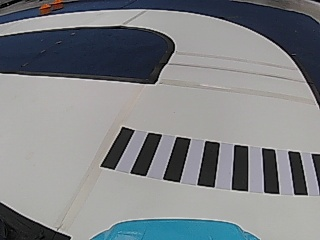CrossWalk: (99, 126, 319, 196)
